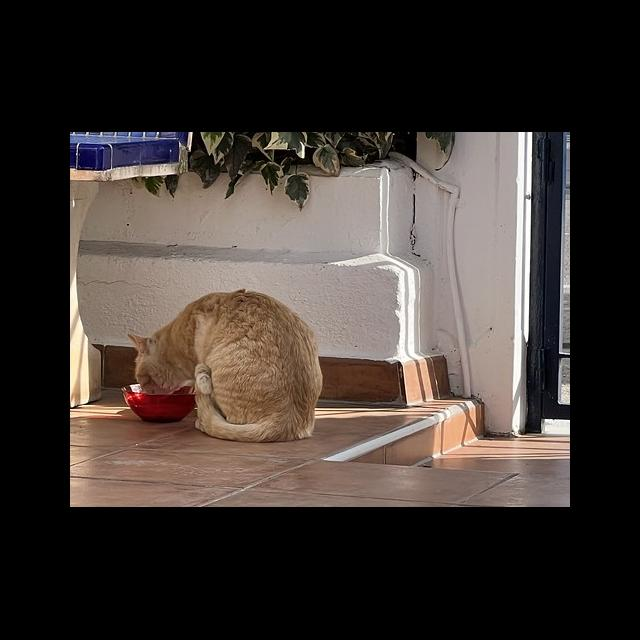animals: (128, 284, 322, 443)
